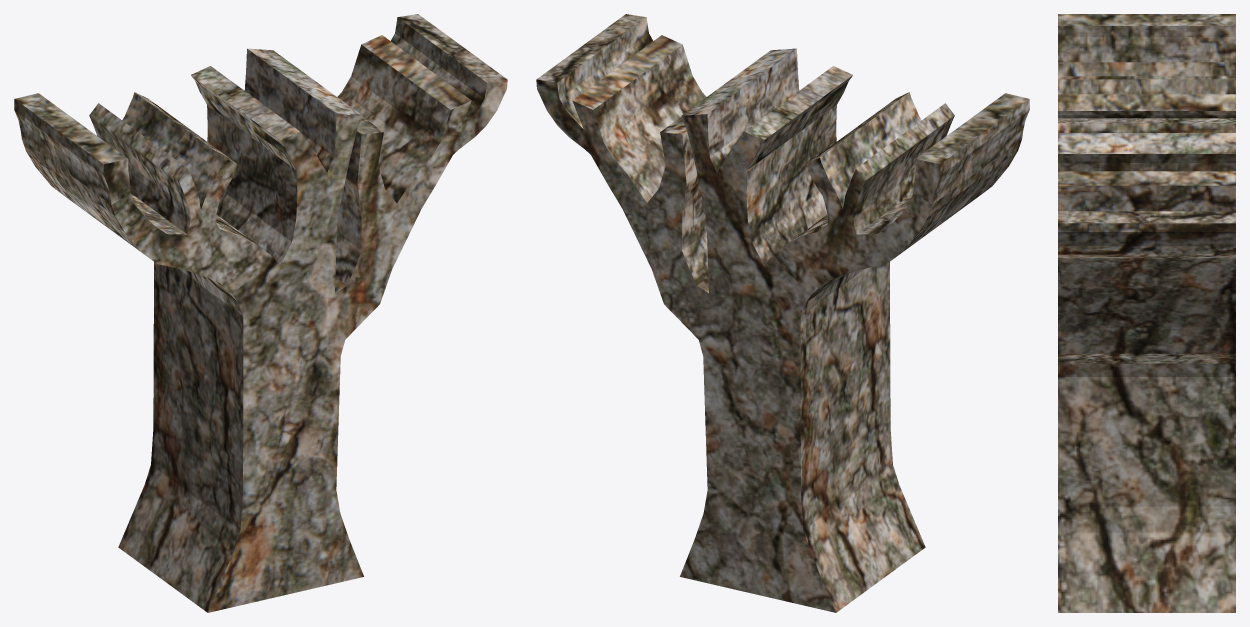
File: tree-matted.obj
3 renders of one model, left to right at view 1: azimuth 30°, elevation 25°; view 2: azimuth 150°, elevation 25°; view 3: azimuth 270°, elevation 25°, orthographic.
Parts seen in each view (by area): view 1: Cube.001; view 2: Cube.001; view 3: Cube.001.
Part boxes in pixels (x1,y1,x2,y2): Cube.001: [14, 14, 507, 612]; Cube.001: [536, 14, 1029, 612]; Cube.001: [1058, 14, 1235, 612].
Size of the model in its own units: 5.21 by 5.86 by 2.
